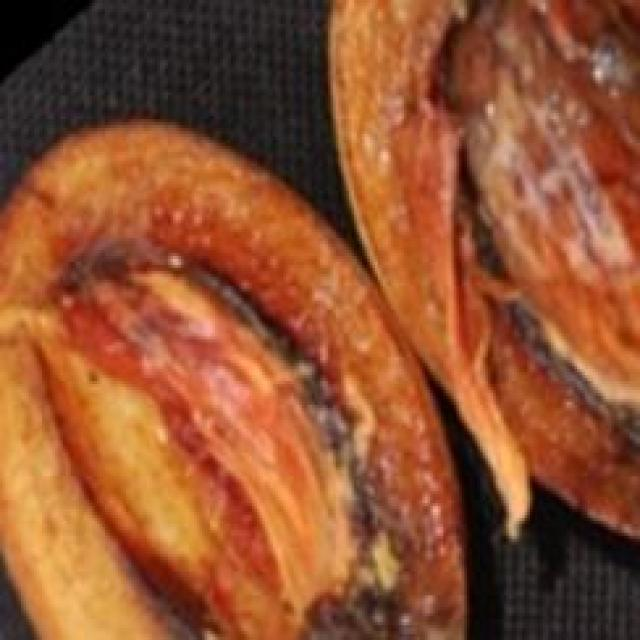damaged: (0, 116, 472, 637), (328, 0, 637, 551)
